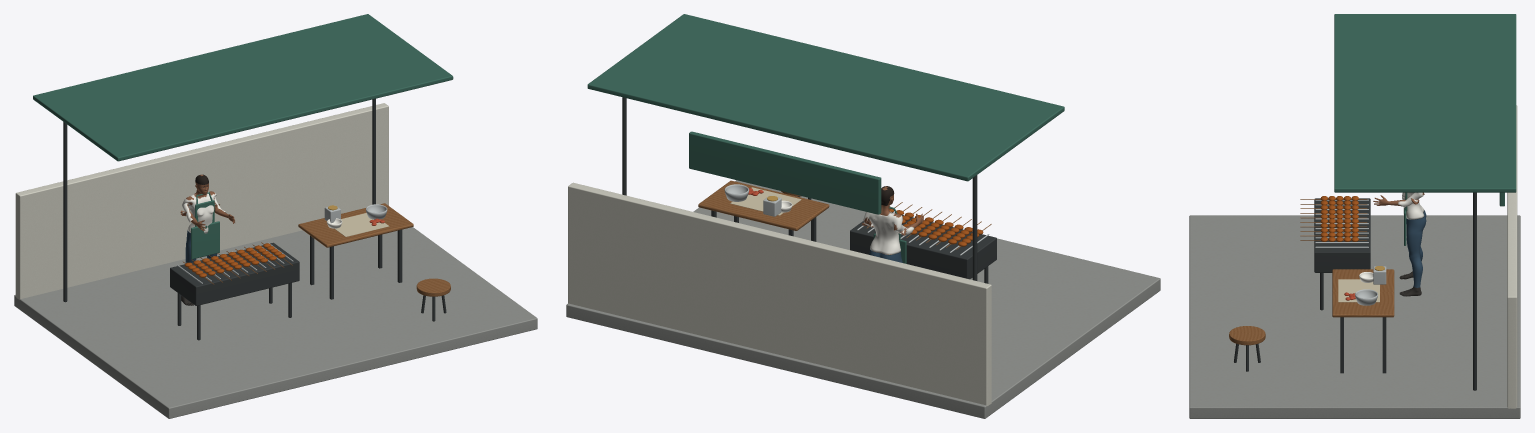
The model's file is lagos-suya-spot.glb.
3 views of the same model, side by side, from view 1: azimuth 30°, elevation 25°; view 2: azimuth 150°, elevation 25°; view 3: azimuth 270°, elevation 25° (orthographic). The views are drawn at different scales.
Parts seen in each view (by area): view 1: Paved forecourt, Low boundary wall, Canopy, Steel grill body, Oak table top, Canopy upright, Apron skirt, Suya cook / Short sleeve shirt, Food wrapping paper, Suya cook / Visible skin, Stool; view 2: Low boundary wall, Canopy, Paved forecourt, Suya sign, Steel grill body, Oak table top, Suya cook / Short sleeve shirt, Canopy upright, Food wrapping paper; view 3: Paved forecourt, Canopy, Low boundary wall, Steel grill body, Oak table top, Suya cook / Trousers, Canopy upright.001, Food wrapping paper, Stool, Suya cook / Short sleeve shirt, Bowl / open inner wall.
Boxes of the visible parts, bbox=[...] form: Paved forecourt: bbox=[14, 227, 537, 418]; Low boundary wall: bbox=[15, 103, 388, 299]; Canopy: bbox=[33, 14, 453, 161]; Steel grill body: bbox=[170, 242, 299, 305]; Oak table top: bbox=[298, 203, 413, 247]; Canopy upright: bbox=[63, 122, 67, 302]; Apron skirt: bbox=[191, 221, 219, 259]; Suya cook / Short sleeve shirt: bbox=[182, 191, 226, 233]; Food wrapping paper: bbox=[326, 213, 389, 236]; Suya cook / Visible skin: bbox=[180, 174, 235, 231]; Stool: bbox=[416, 278, 450, 296]; Low boundary wall: bbox=[568, 182, 991, 405]; Canopy: bbox=[587, 14, 1064, 181]; Paved forecourt: bbox=[566, 180, 1160, 418]; Suya sign: bbox=[689, 131, 881, 214]; Steel grill body: bbox=[850, 212, 996, 279]; Oak table top: bbox=[698, 180, 829, 230]; Suya cook / Short sleeve shirt: bbox=[863, 211, 914, 254]; Canopy upright: bbox=[972, 175, 977, 280]; Food wrapping paper: bbox=[730, 187, 801, 215]; Paved forecourt: bbox=[1189, 215, 1520, 418]; Canopy: bbox=[1334, 14, 1516, 192]; Low boundary wall: bbox=[1507, 105, 1517, 408]; Steel grill body: bbox=[1314, 198, 1370, 272]; Oak table top: bbox=[1332, 269, 1394, 317]; Suya cook / Trousers: bbox=[1406, 210, 1426, 287]; Canopy upright.001: bbox=[1473, 192, 1476, 390]; Food wrapping paper: bbox=[1338, 279, 1379, 302]; Stool: bbox=[1229, 326, 1265, 345]; Suya cook / Short sleeve shirt: bbox=[1398, 192, 1424, 219]; Bowl / open inner wall: bbox=[1355, 289, 1377, 305].
Bounding box in the file's own units: 5.5 × 2.96 × 4.
Materials: 17 (4 with a texture image).
